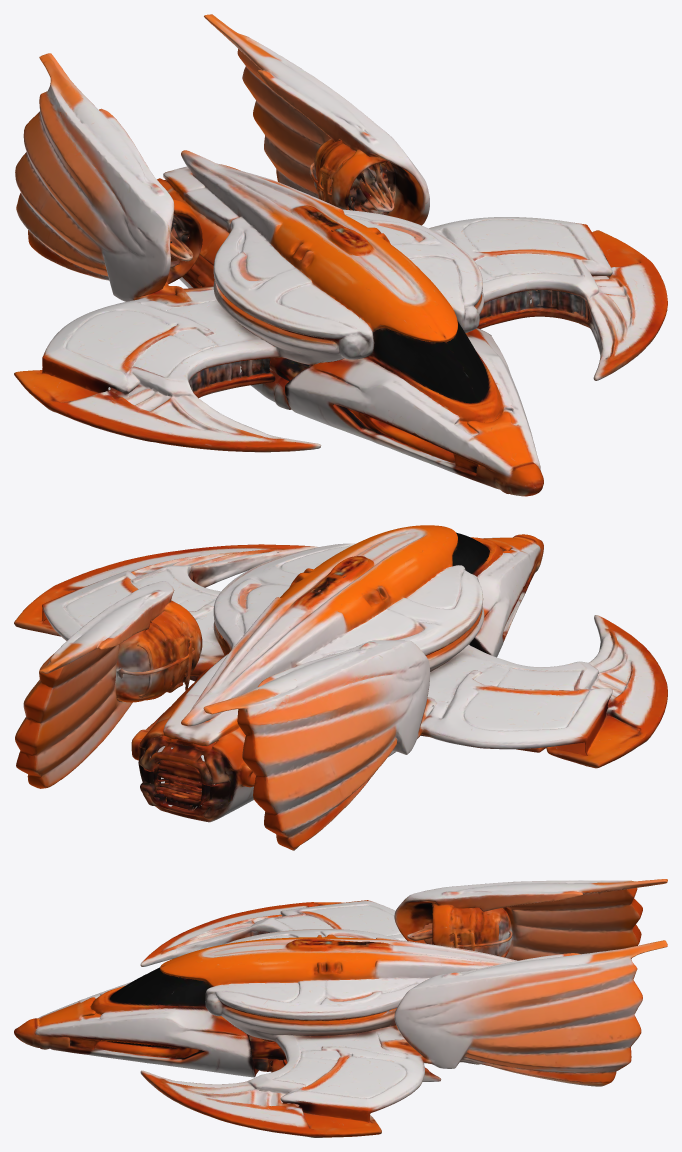
File: falcon.glb
3 views of the same model, one above another, from view 1: azimuth 30°, elevation 25°; view 2: azimuth 150°, elevation 25°; view 3: azimuth 270°, elevation 25° (orthographic). The views are drawn at different scales.
Parts seen in each view (by area): view 1: world; view 2: world; view 3: world.
Boxes of the visible parts, left/top/right/bottom form: world: left=14, top=14, right=667, bottom=496; world: left=14, top=525, right=667, bottom=850; world: left=14, top=879, right=667, bottom=1137.
Bounding box in the file's own units: 0.8398 × 0.235 × 1.
1 material, 1 textured.
